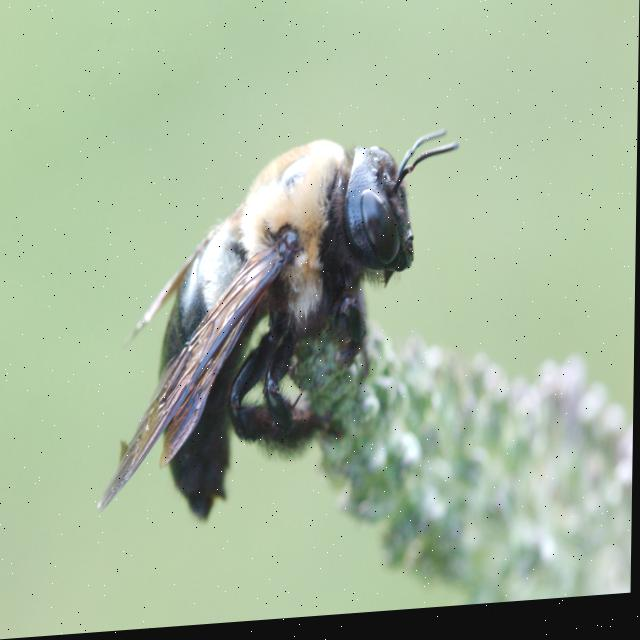Xylocopa: (72, 110, 464, 553)
